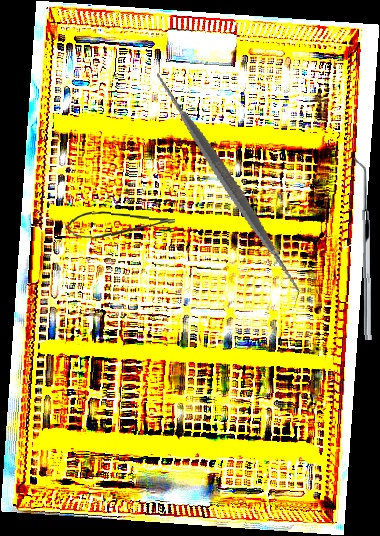Micro Scissor: (65, 209, 176, 244)
Spatula Surgical: (102, 58, 354, 309), (354, 157, 372, 341)
